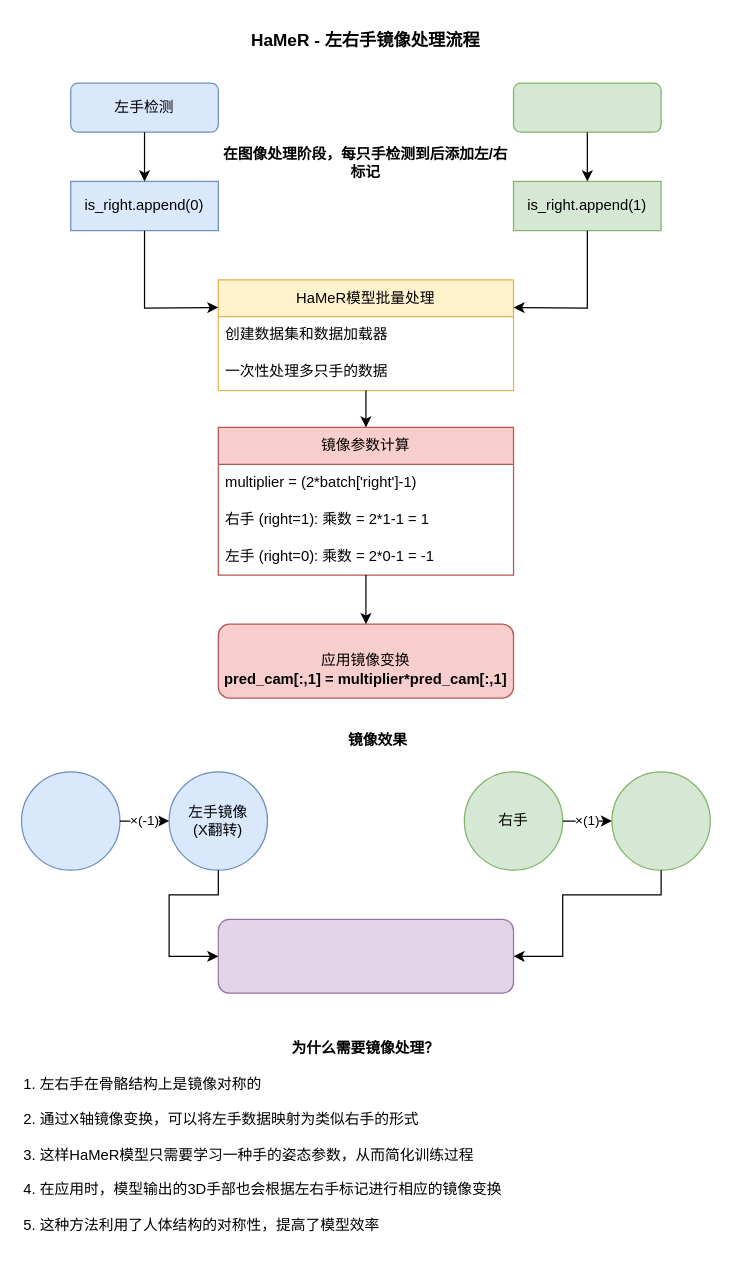
This 732x1272 diagram has some shape labels left out. Here are the shapes that lost their labels. From the top down, the centre of each, then its label:
At point (586, 107): "右手检测".
At point (70, 820): "左手".
At point (660, 820): "右手保持 不变".
At point (365, 955): "统一的HaMeR模型处理".
